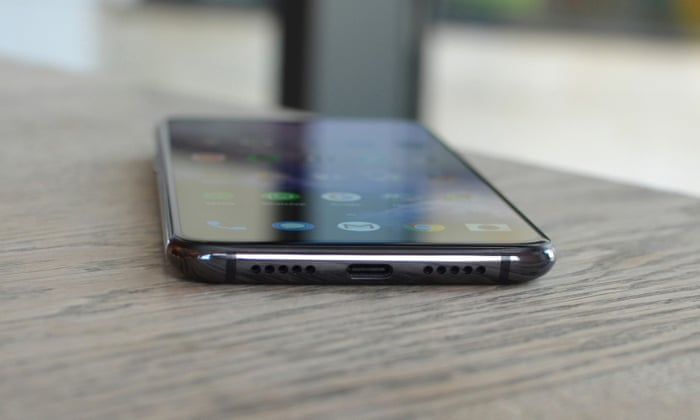Cell Phone: (152, 114, 556, 285)
